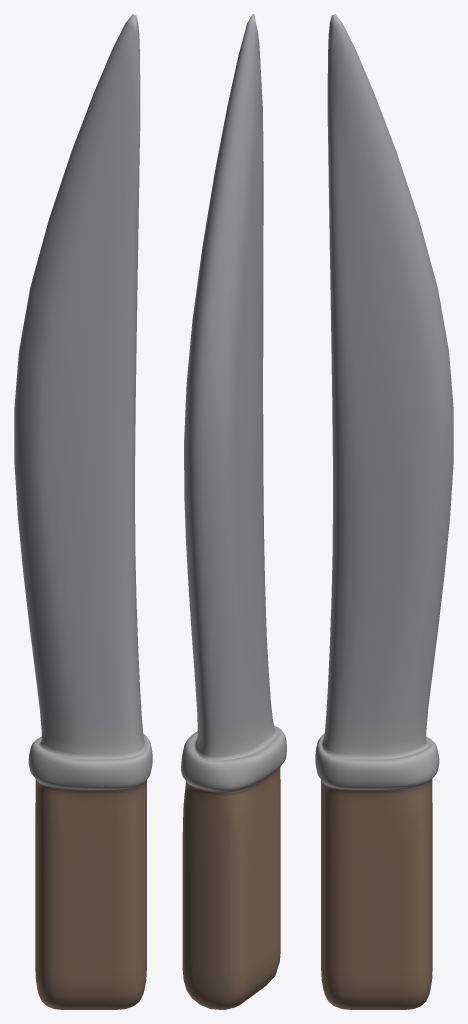
Rendered from cuchillo.fbx.
The picture shows the model from 3 angles, left to right: view 1: azimuth 90°, elevation 25°; view 2: azimuth 150°, elevation 25°; view 3: azimuth 270°, elevation 25°; orthographic projection. The views are drawn at different scales.
Parts seen in each view (by area): view 1: pCube1; view 2: pCube1; view 3: pCube1.
Boxes of the visible parts, x1,y1,x2,y2 form: pCube1: [14, 14, 152, 1009]; pCube1: [181, 14, 286, 1009]; pCube1: [315, 14, 453, 1009].
Bounding box in the file's own units: 0.1 × 1.15 × 0.1457.
